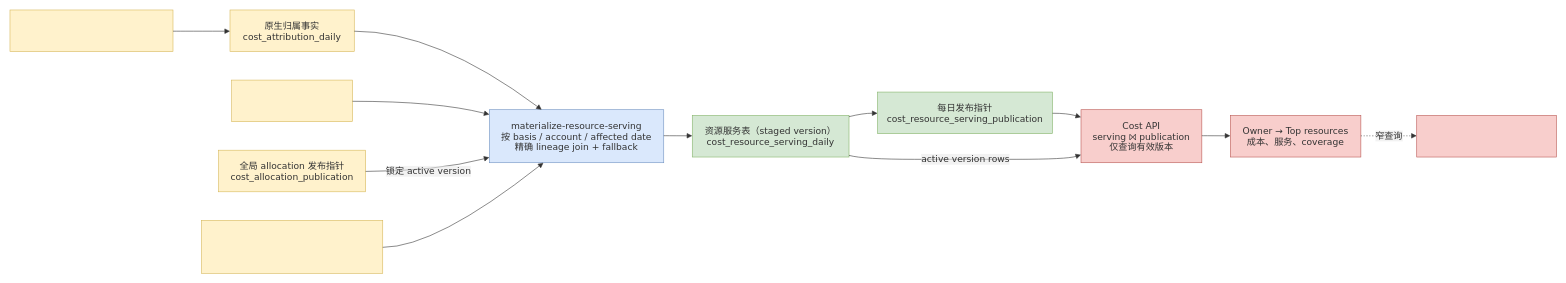
This 1566x283 diagram has some shape labels left out. Each missing label, with the centre of its shape:
"Phase 2：展开 SKU / namespace / labels" belongs at [1486,136].
"已发布分摊事实 cost_allocation_daily" belongs at [292,101].
"账单汇总账本 cost_bq_export_summary_daily" belongs at [91,30].
"资源 / SKU 明细 每日 export-partition 增量 region + source_summary_row_hash" belongs at [292,246].
